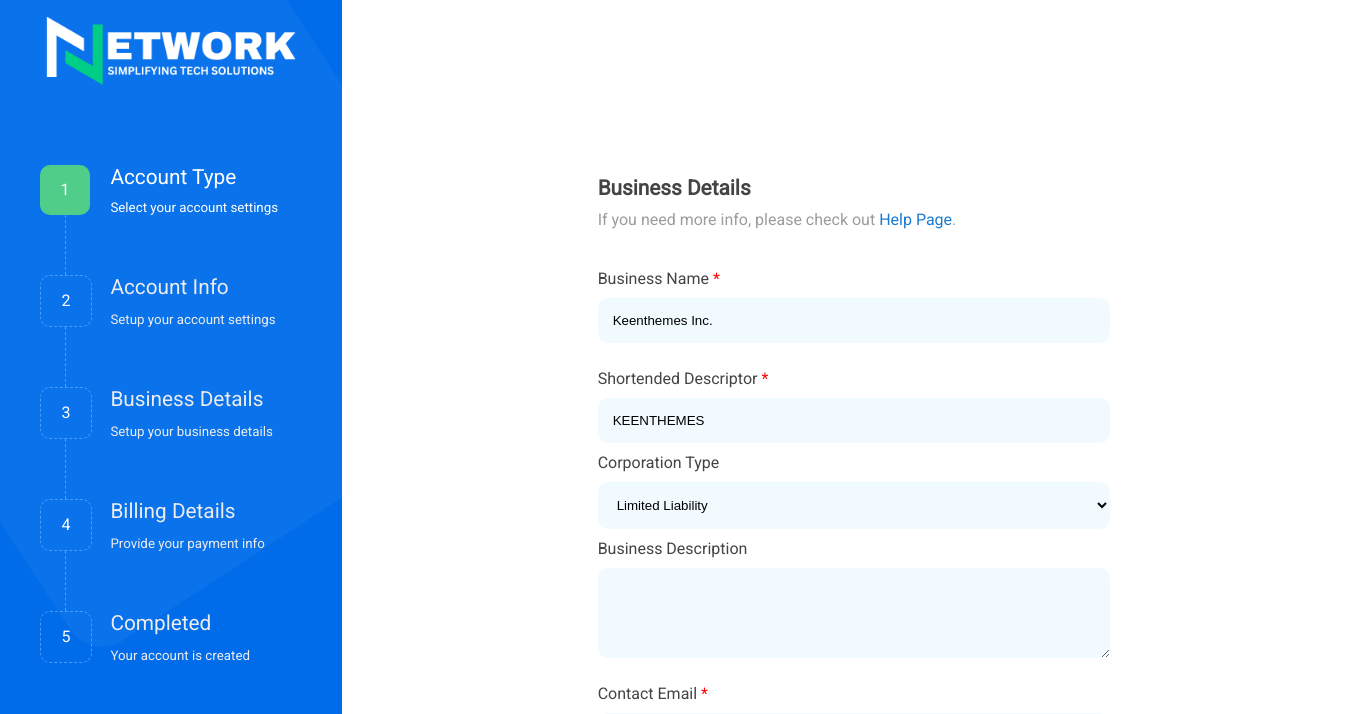
<BusinessDetails /> › Should display an error if Shortended Descriptor is empty and I press 'Continue'
Clear the field with test id "shortended-descriptor" at (854, 420), box left=598, top=398, right=1110, bottom=443
(page scrolled)
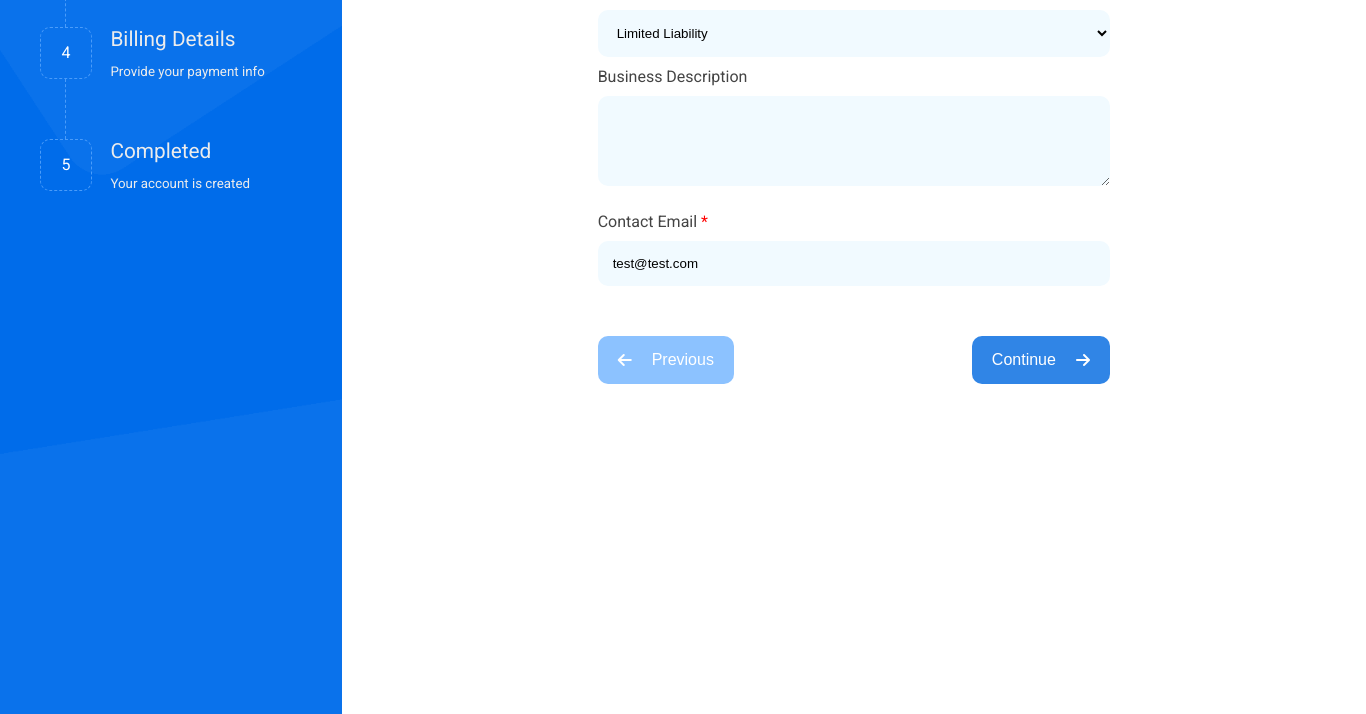
Click the button with test id "actions-next-button".
click(1041, 360)  # box left=972, top=336, right=1110, bottom=384
(page scrolled)
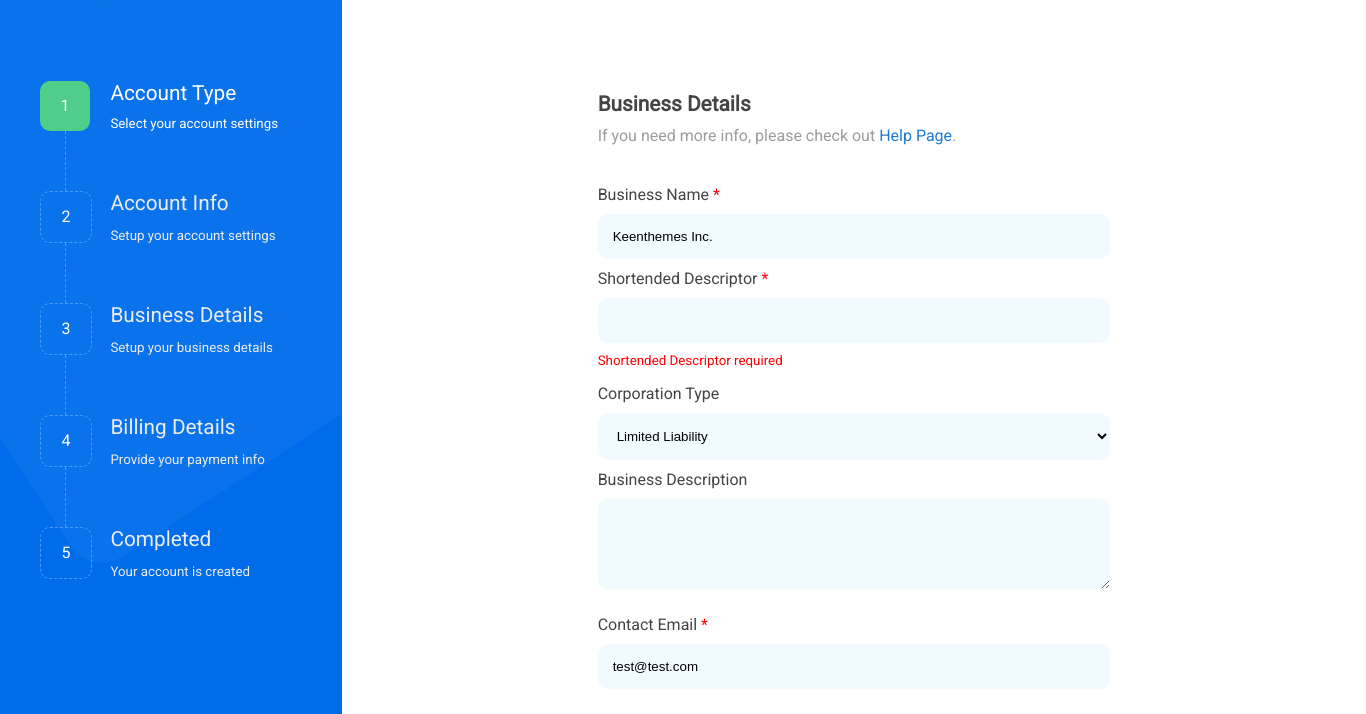
Check: the text "Shortended Descriptor required" is shown, box left=598, top=353, right=783, bottom=368
